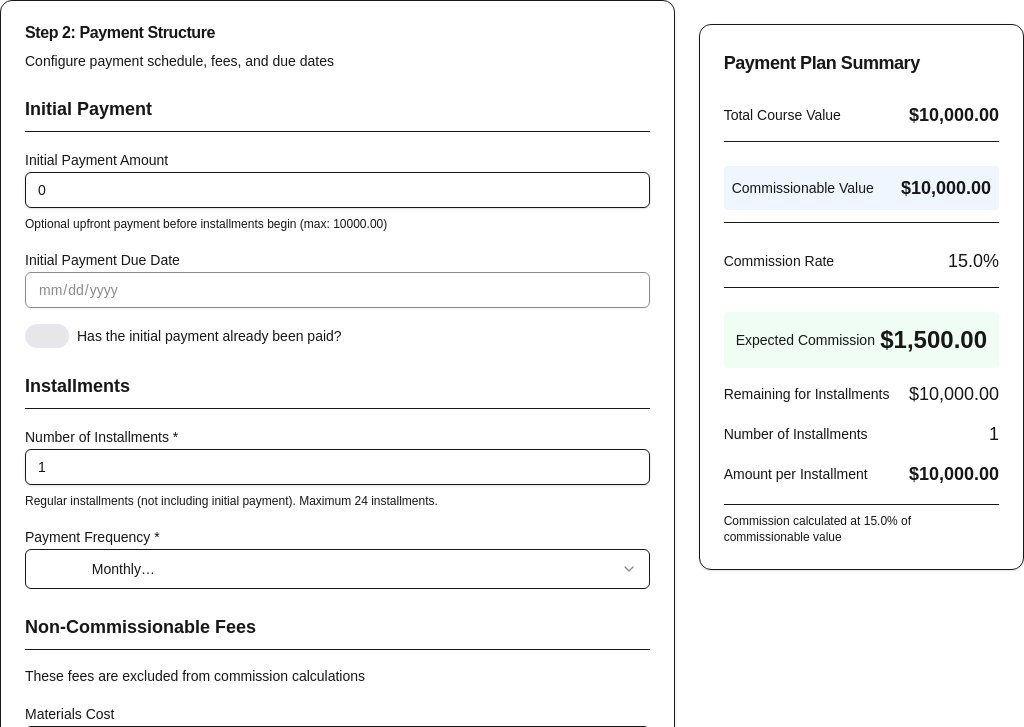
Test case: PaymentPlanWizardStep2 › Form Validation › validates number of installments between 1 and 24
// Test 0 installments
Replace the text in the number field labelled "Number of Installments *" with "0" at [337, 467], box [25,449,650,485]
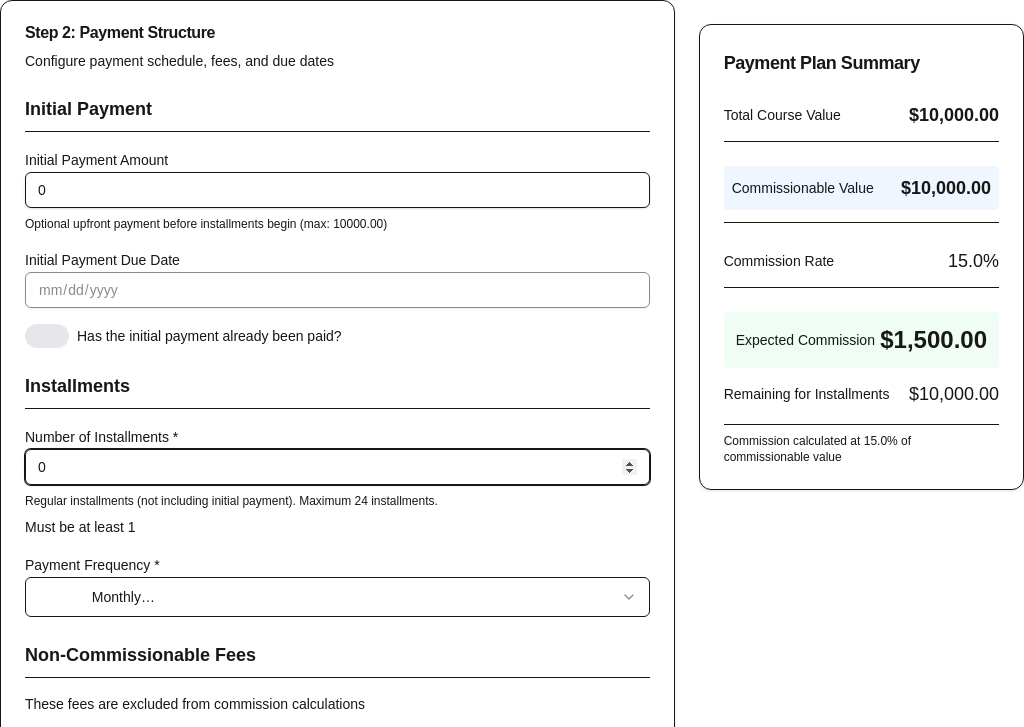
Expected: the text "Must be at least 1" is shown, [25,519,136,535]
// Test 25 installments
Replace the text in the number field labelled "Number of Installments *" with "25" at [337, 467], box [25,449,650,485]
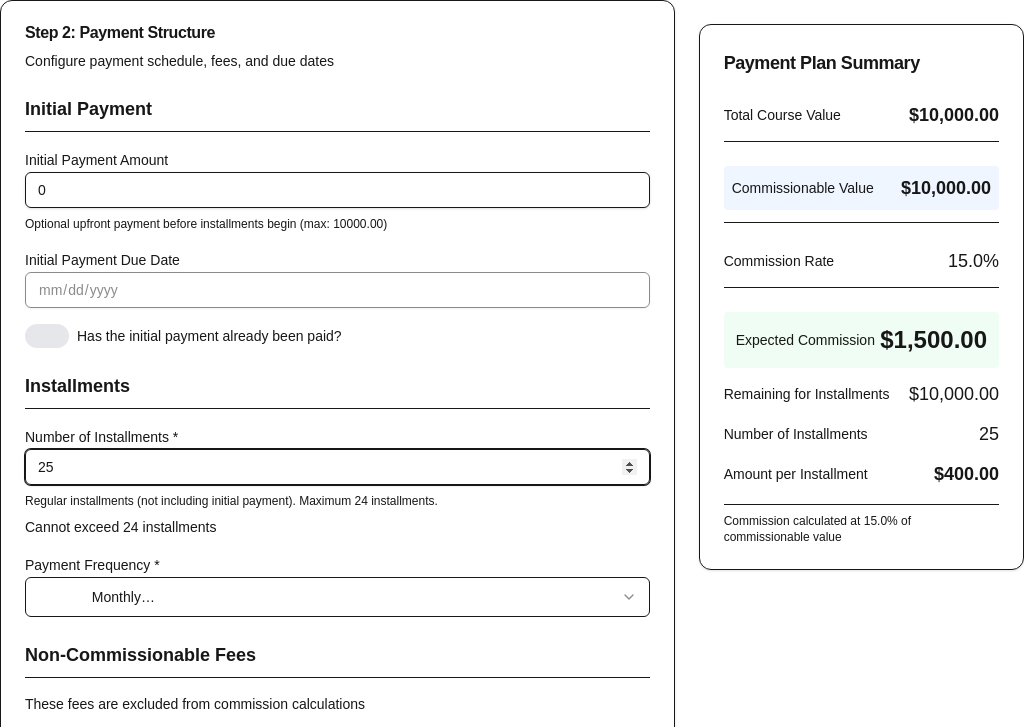
Expected: the text "Cannot exceed 24 installments" is shown, [25,519,216,535]
